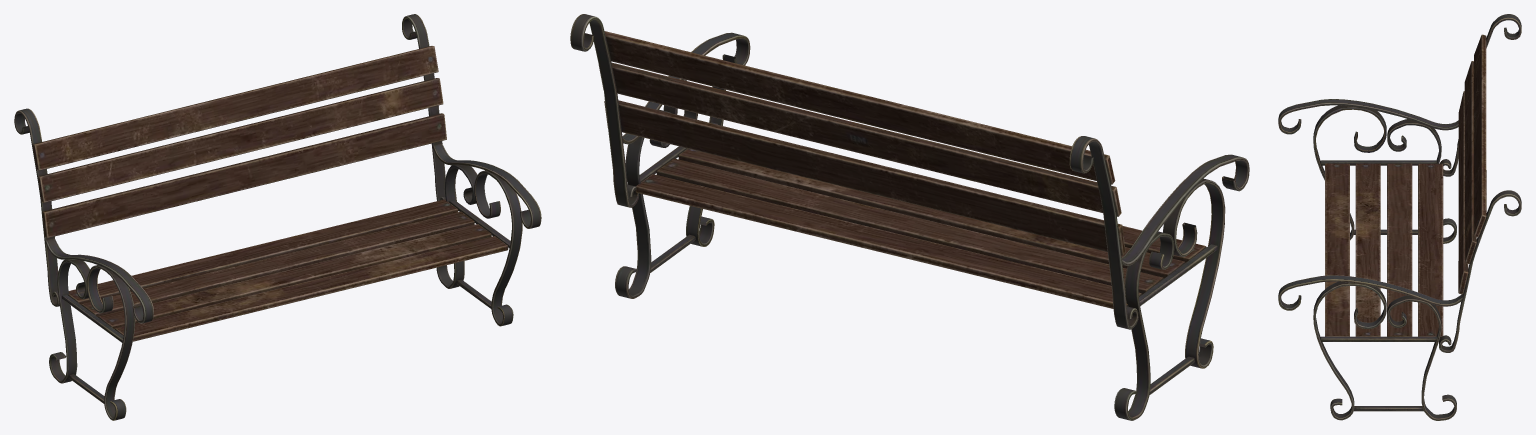
The model's file is plaza-bench-forjado.glb.
The picture shows the model from 3 angles, left to right: view 1: azimuth 30°, elevation 25°; view 2: azimuth 150°, elevation 25°; view 3: azimuth 270°, elevation 25°; orthographic projection. The views are drawn at different scales.
Parts seen in each view (by area): view 1: Bench__Park__0; view 2: Bench__Park__0; view 3: Bench__Park__0.
Boxes of the visible parts, x1,y1,x2,y2 form: Bench__Park__0: (14,14,541,420); Bench__Park__0: (570,14,1249,420); Bench__Park__0: (1278,14,1521,420).
Bounding box in the file's own units: 1.46 × 0.85 × 0.8269.
1 material, 1 textured.
